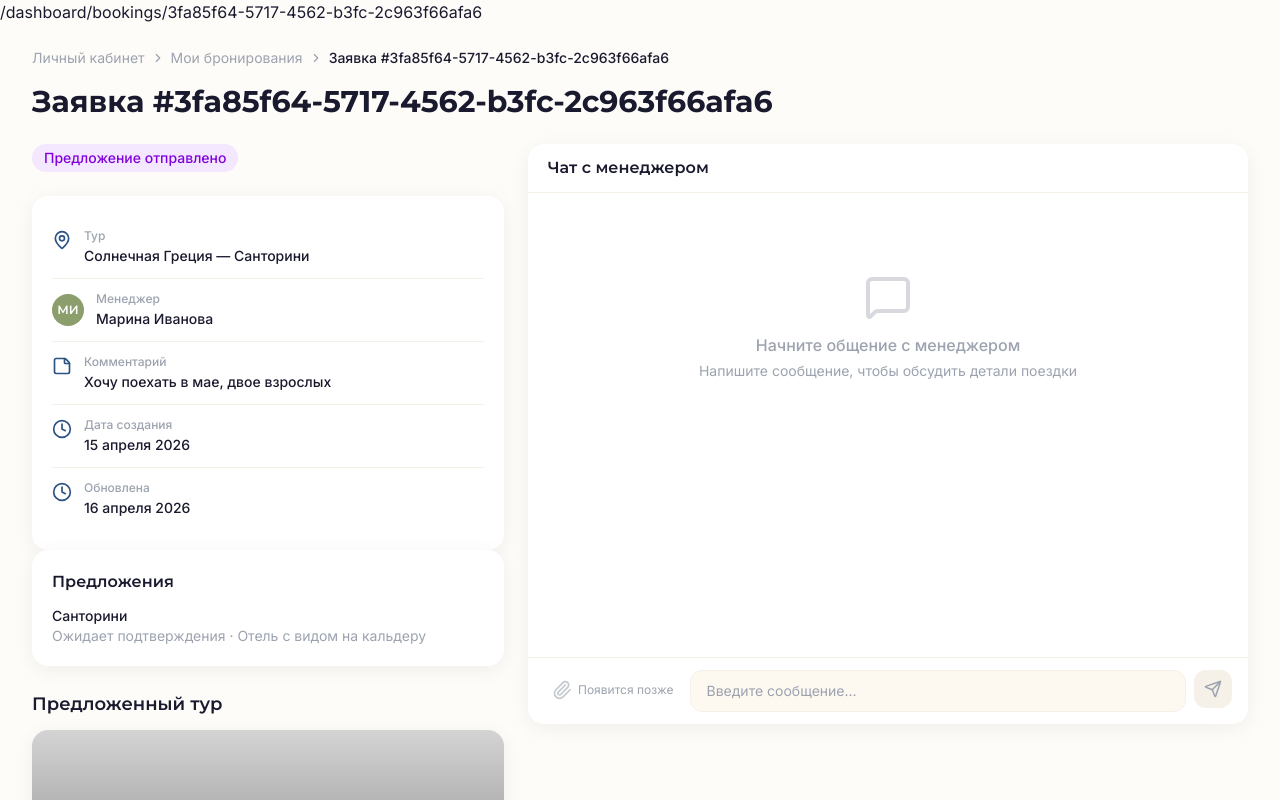
Test: manager row on booking pages › после ошибки предварительного запроса следующее открытие повторяет GET
The image size is (1280, 800).
Click the button "МИ Менеджер Марина Иванова".
click(68, 310)  # box 52,279 -> 484,342
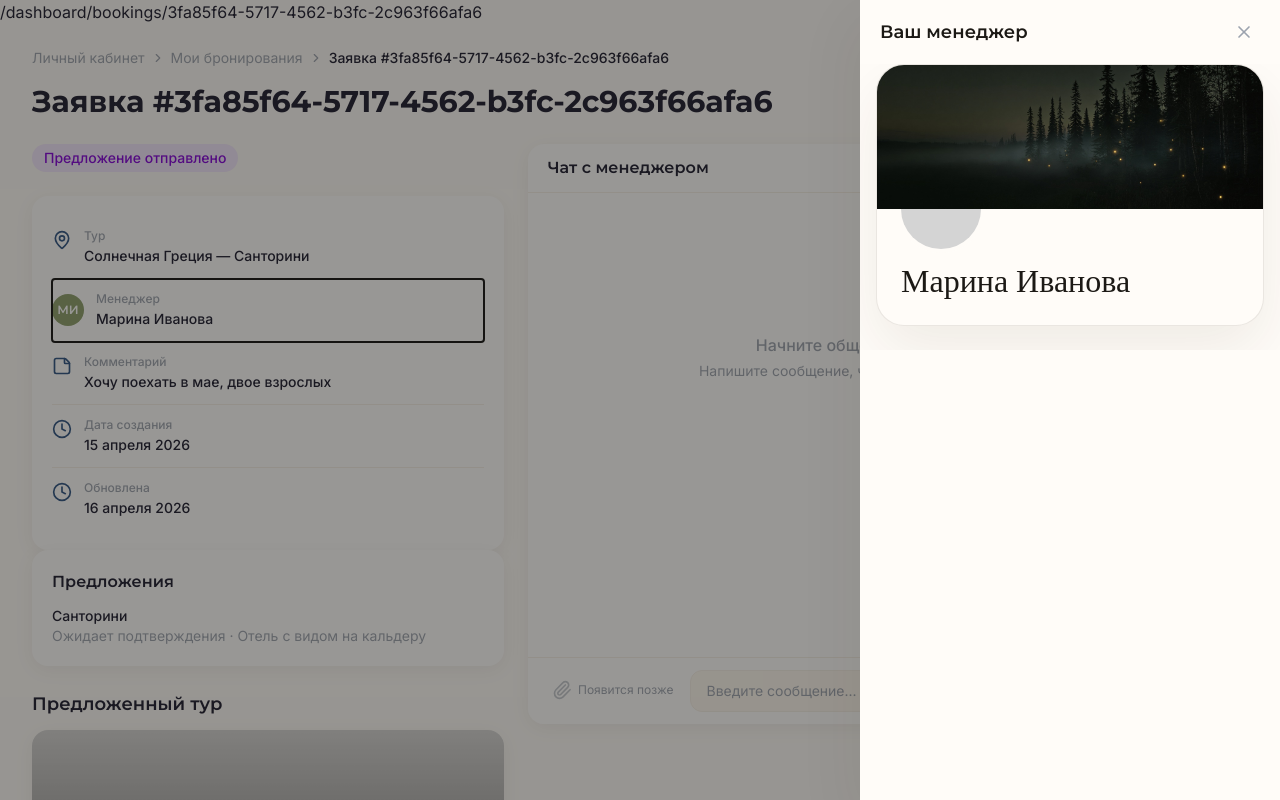
Now the heading "Марина Иванова" is shown, box 901,263 -> 1130,299
Click the button named "Закрыть".
click(1244, 32)  # box 1228,16 -> 1260,48
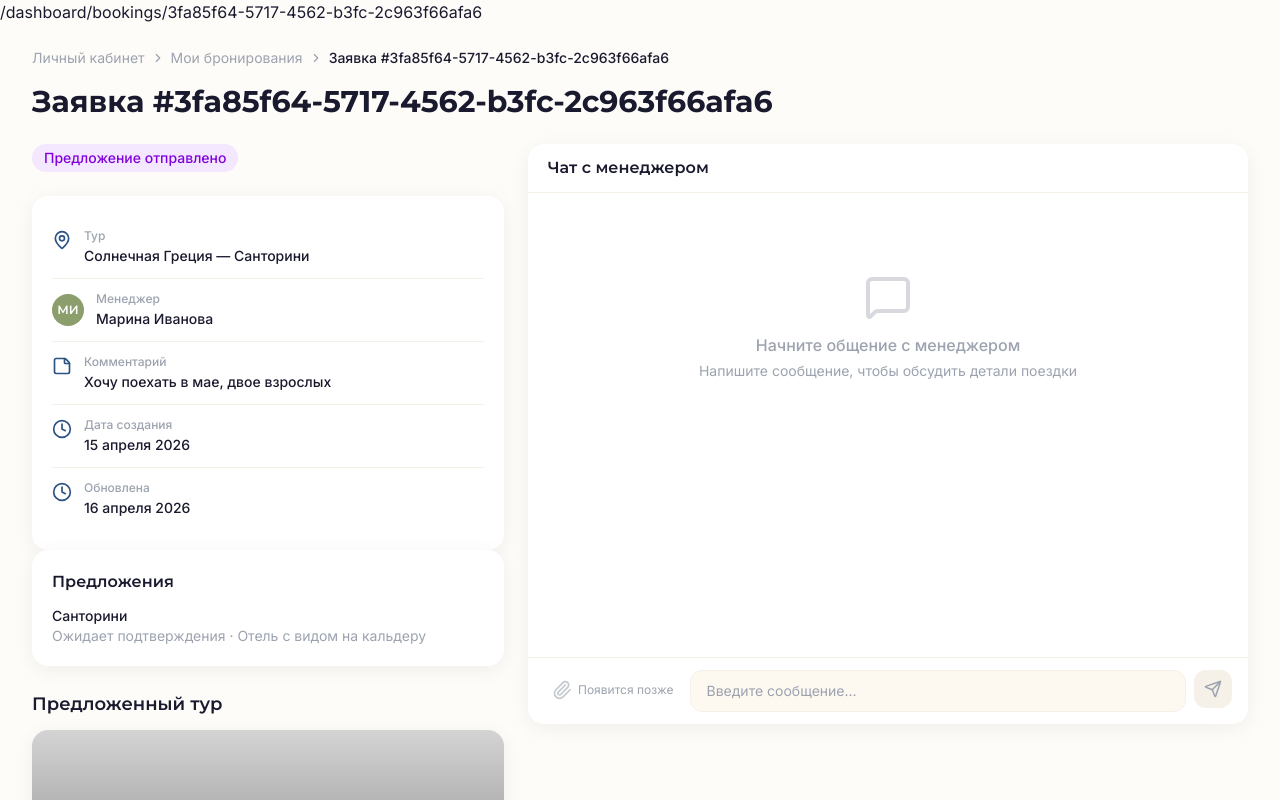
Click the button "МИ Менеджер Марина Иванова".
click(68, 310)  # box 52,279 -> 484,342
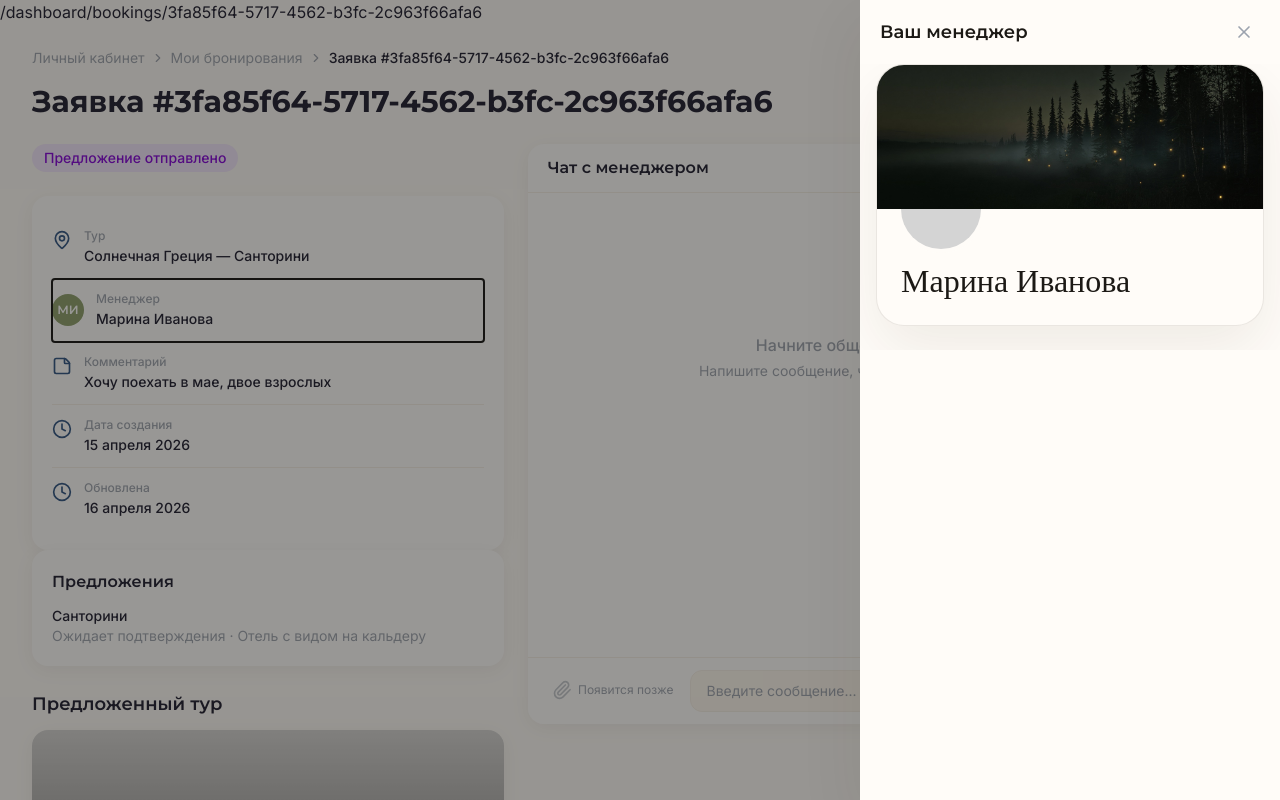
Now the dialog named "Карточка менеджера" is shown, box 860,0 -> 1279,799
